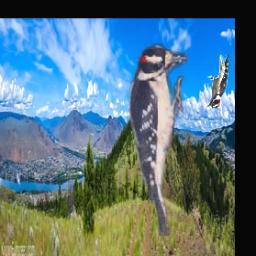Woodpecker: (127, 41, 187, 237), (206, 56, 229, 109)
